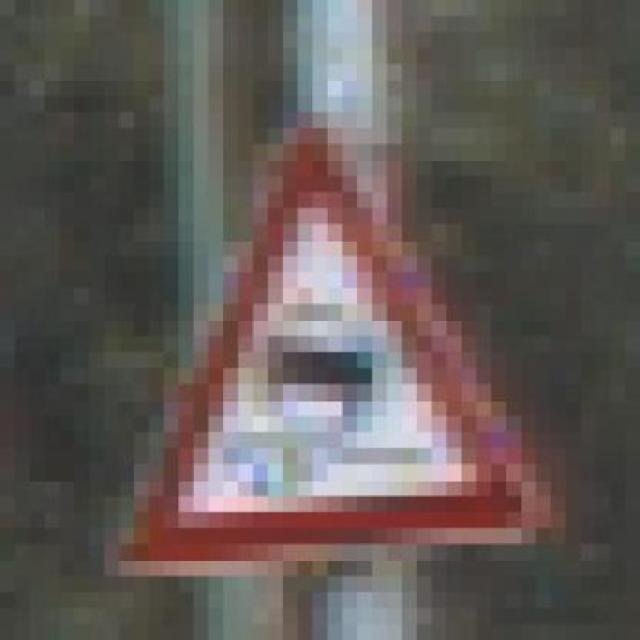Slippery Road Ahead: (87, 94, 548, 592)
